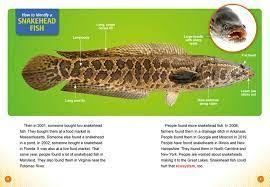Snakehead: (21, 45, 258, 107)
